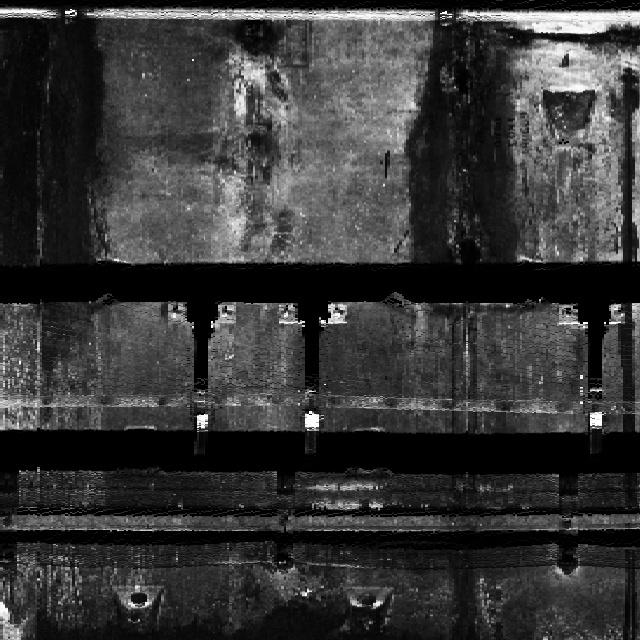leakage: (397, 17, 528, 272), (0, 19, 125, 266), (599, 57, 639, 266), (616, 469, 639, 639), (611, 299, 639, 433)
